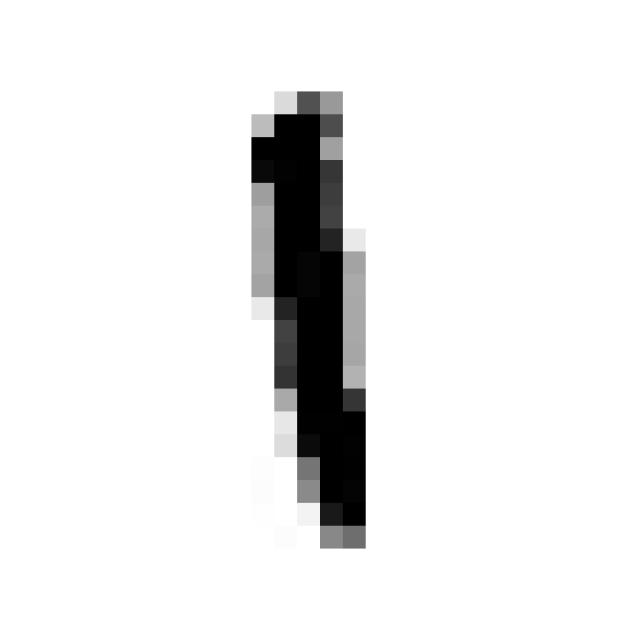1 -one-: (218, 66, 384, 562)
